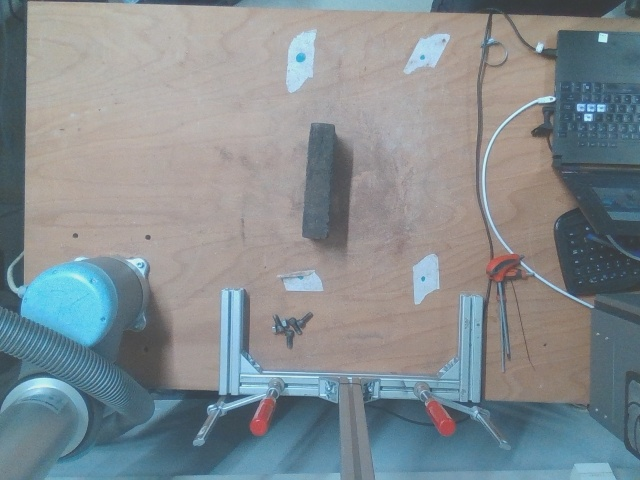brick-side: (301, 124, 336, 237)
